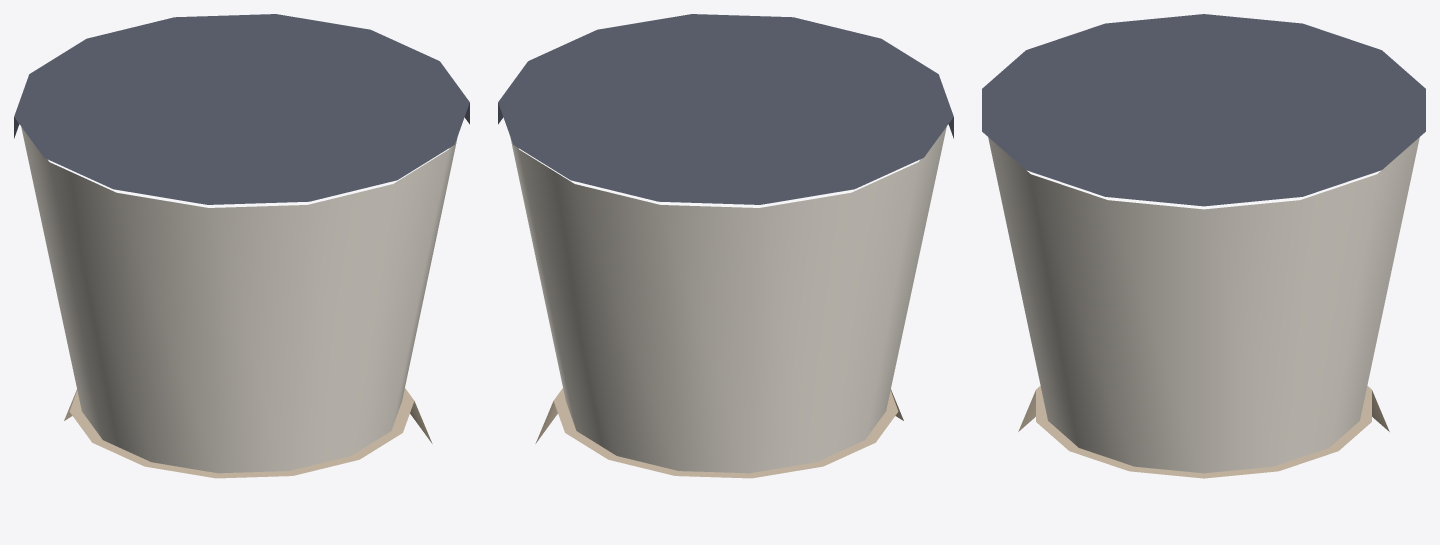
Rendered from SV_MTO_SKU_01_v01_lod1.glb.
3 renders of one model, left to right at view 1: azimuth 30°, elevation 25°; view 2: azimuth 150°, elevation 25°; view 3: azimuth 270°, elevation 25°, orthographic.
Parts seen in each view (by area): view 1: SV_MTO_SKU_01_v01; view 2: SV_MTO_SKU_01_v01; view 3: SV_MTO_SKU_01_v01.
Boxes of the visible parts, left/top/right/bottom form: SV_MTO_SKU_01_v01: left=14, top=14, right=469, bottom=478; SV_MTO_SKU_01_v01: left=498, top=14, right=953, bottom=478; SV_MTO_SKU_01_v01: left=982, top=14, right=1425, bottom=478.
Size of the model in its own units: 0.148 by 0.122 by 0.1443.
